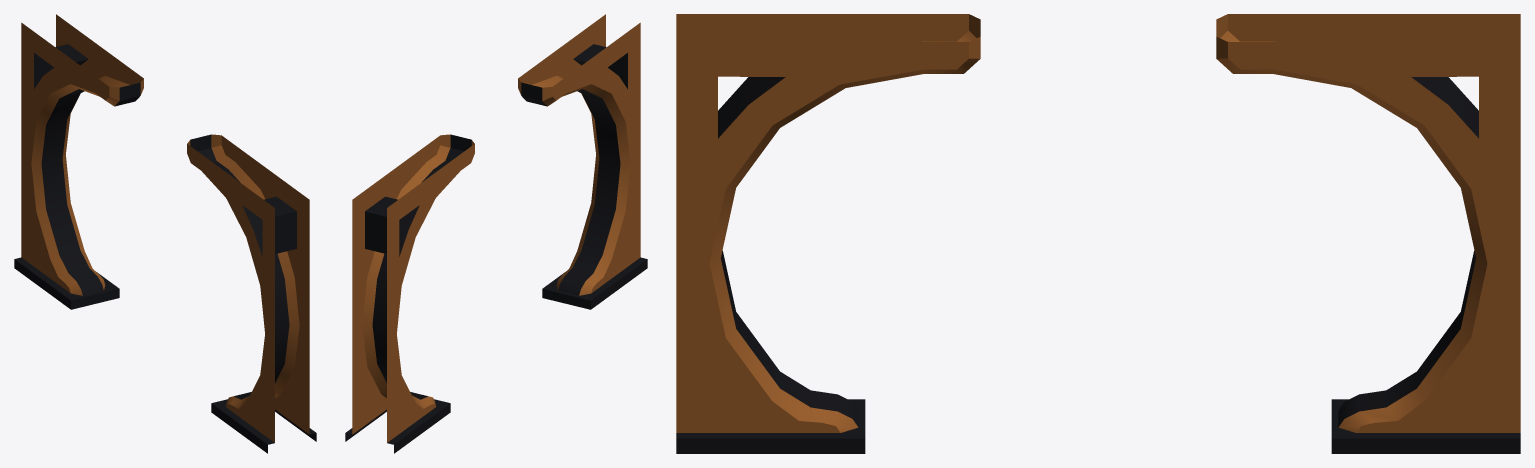
Rendered from 10_Pilar_02.fbx.
The picture shows the model from 3 angles, left to right: view 1: azimuth 30°, elevation 25°; view 2: azimuth 150°, elevation 25°; view 3: azimuth 270°, elevation 25°; orthographic projection. The views are drawn at different scales.
Visible parts, largest first — view 1: PilarEdifi01.001; view 2: PilarEdifi01.001; view 3: PilarEdifi01.001.
Boxes of the visible parts, bbox=[...] form: PilarEdifi01.001: bbox=[14, 14, 316, 453]; PilarEdifi01.001: bbox=[345, 14, 647, 453]; PilarEdifi01.001: bbox=[676, 14, 1520, 453].
Bounding box in the file's own units: 159 × 763 × 1437.
